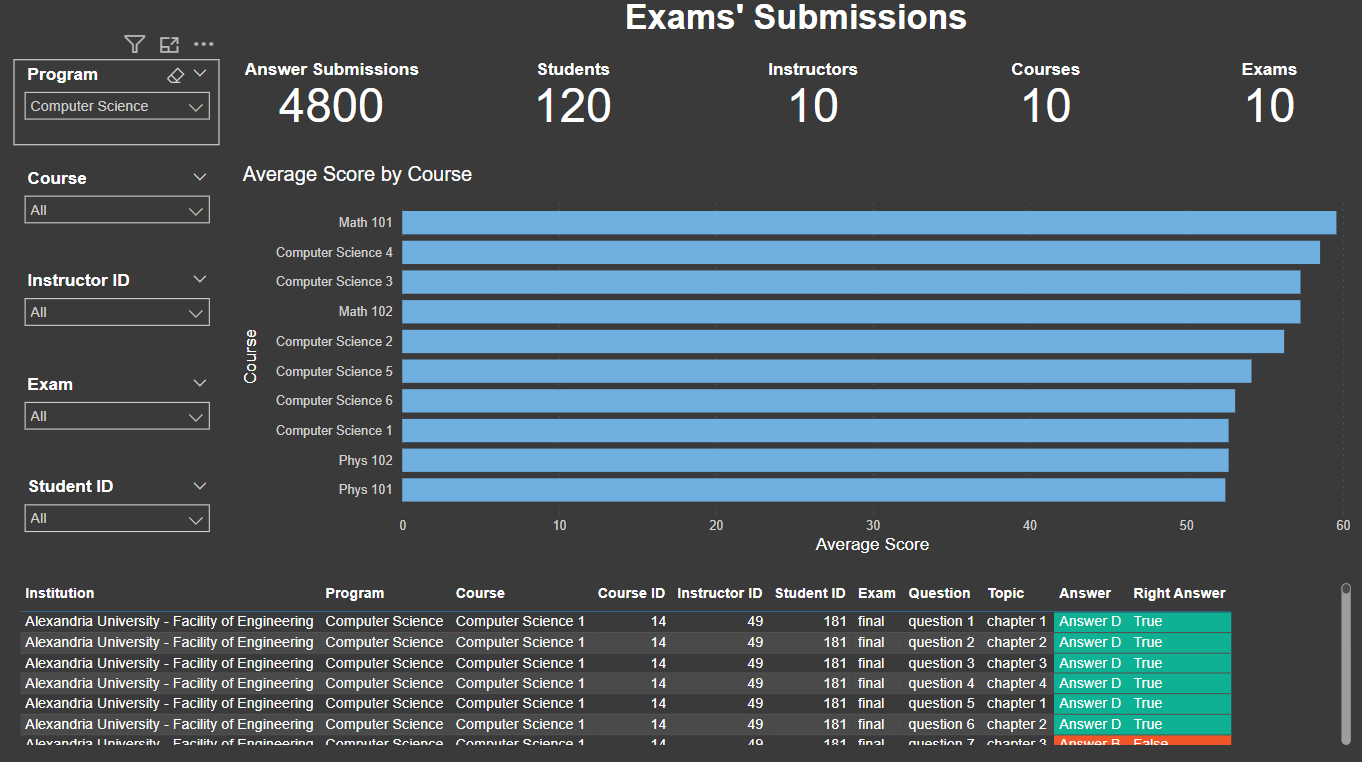

The page's visual inventory and layout, read from the dashboard file:
{"tool":"powerbi","page":{"name":"Exams' Submissions","canvas":[1280,720],"ordinal":3},"visuals":[{"type":"tableEx","fields":{"Values":["v_exam_submissions.institution_name","v_exam_submissions.program_name","v_exam_submissions.course_name","v_exam_submissions.course_id","v_exam_submissions.instructor_id","v_exam_submissions.student_id","v_exam_submissions.exam_name","v_exam_submissions.question_text","v_exam_submissions.topic_name","v_exam_submissions.answer_text","v_exam_submissions.right_answer"]},"box":[16,544,1248,160],"z":0},{"type":"card","title":"Students","fields":{"Values":["Count(v_exam_submissions.student_id)"]},"box":[448,61.6,176,64],"z":1000},{"type":"card","title":"Courses","fields":{"Values":["Count(v_exam_submissions.course_id)"]},"box":[896,61.6,160,64],"z":2000},{"type":"slicer","fields":{"Values":["v_exam_submissions.course_name"]},"box":[16,157.6,192,80],"z":3000},{"type":"slicer","fields":{"Values":["v_exam_submissions.program_name"]},"box":[16,61.6,192,80],"z":4000},{"type":"slicer","fields":{"Values":["v_exam_submissions.student_id"]},"box":[16,445.6,192,80],"z":5000},{"type":"slicer","fields":{"Values":["v_exam_submissions.instructor_id"]},"box":[16,253.6,192,80],"z":6000},{"type":"card","title":"Instructors","fields":{"Values":["Count(v_exam_submissions.instructor_id)"]},"box":[672,61.6,176,64],"z":7000},{"type":"slicer","fields":{"Values":["v_exam_submissions.exam_name"]},"box":[16,349.6,192,80],"z":8000},{"type":"card","title":"Exams","fields":{"Values":["Count(v_exam_submissions.exam_id)"]},"box":[1104,61.6,160,64],"z":9000},{"type":"card","title":"Answer Submissions","fields":{"Values":["CountNonNull(v_exam_submissions.exam_name)"]},"box":[224,61.6,176,64],"z":10000},{"type":"textbox","box":[544,0,400,48],"z":11000},{"type":"barChart","fields":{"Category":["v_exam_submissions.course_name"],"Y":["v_exam_submissions.rightAnswers_by_students"]},"box":[224,157.6,1040,368],"z":12000}]}

Visuals, with their boxes in screenshot pixels (x1, y1, x2, y2), scaled from the page's 1280x720 canvas onto the 1362x762 screenshot:
tableEx - v_exam_submissions.institution_name x v_exam_submissions.program_name: detection(17, 576, 1345, 745)
"Students" card: detection(477, 65, 664, 133)
"Courses" card: detection(953, 65, 1124, 133)
slicer - v_exam_submissions.course_name: detection(17, 167, 221, 251)
slicer - v_exam_submissions.program_name: detection(17, 65, 221, 150)
slicer - v_exam_submissions.student_id: detection(17, 472, 221, 556)
slicer - v_exam_submissions.instructor_id: detection(17, 268, 221, 353)
"Instructors" card: detection(715, 65, 902, 133)
slicer - v_exam_submissions.exam_name: detection(17, 370, 221, 455)
"Exams" card: detection(1175, 65, 1345, 133)
"Answer Submissions" card: detection(238, 65, 426, 133)
textbox: detection(579, 0, 1004, 51)
barChart - v_exam_submissions.course_name x v_exam_submissions.rightAnswers_by_students: detection(238, 167, 1345, 556)
